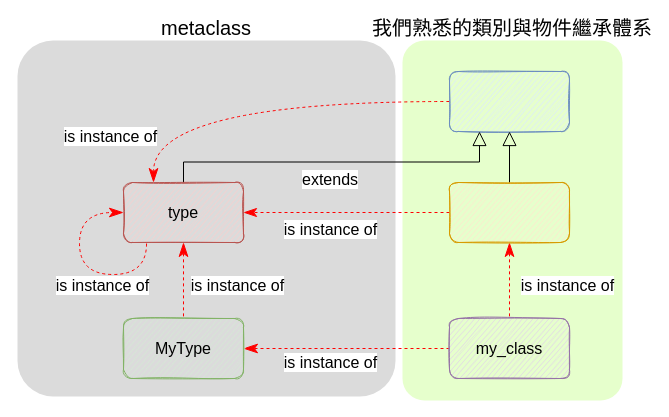
This 669x417 diagram has some shape labels left out. The shapes that lost their labels are listed below. From the top down, each one's centre as x and y in pixels, then its label:
[509,101]: object
[509,212]: MyClass
